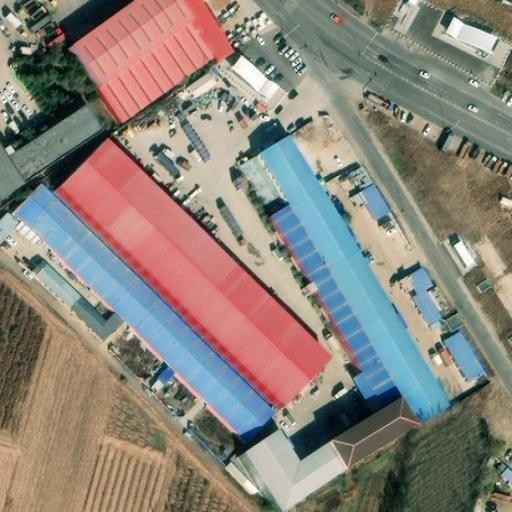building: (54, 136, 329, 413), (14, 180, 271, 439), (256, 137, 452, 420), (239, 157, 403, 414), (65, 0, 231, 125), (246, 428, 347, 507), (9, 105, 105, 182), (35, 260, 125, 340), (331, 395, 418, 465), (214, 55, 284, 113), (399, 265, 450, 325), (347, 164, 391, 222), (433, 330, 483, 381), (444, 17, 496, 50), (445, 232, 478, 270), (183, 74, 216, 104)
